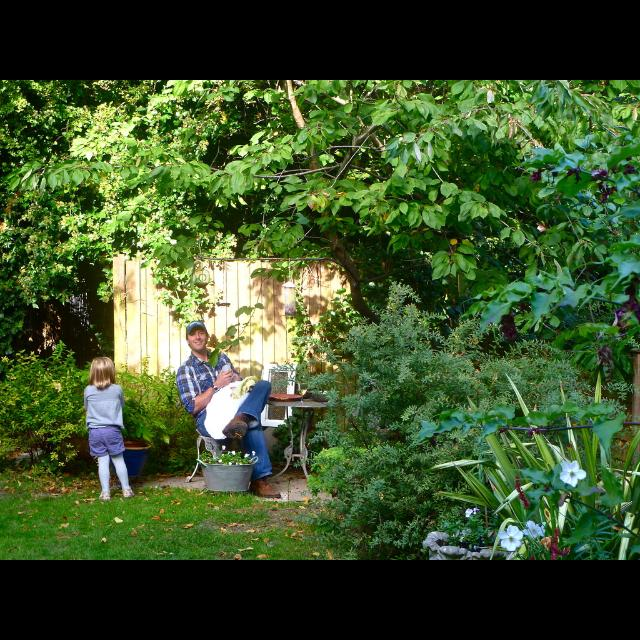Flower: (205, 443, 257, 461), (500, 522, 522, 556), (555, 460, 577, 488), (522, 517, 544, 543), (462, 505, 474, 521)
